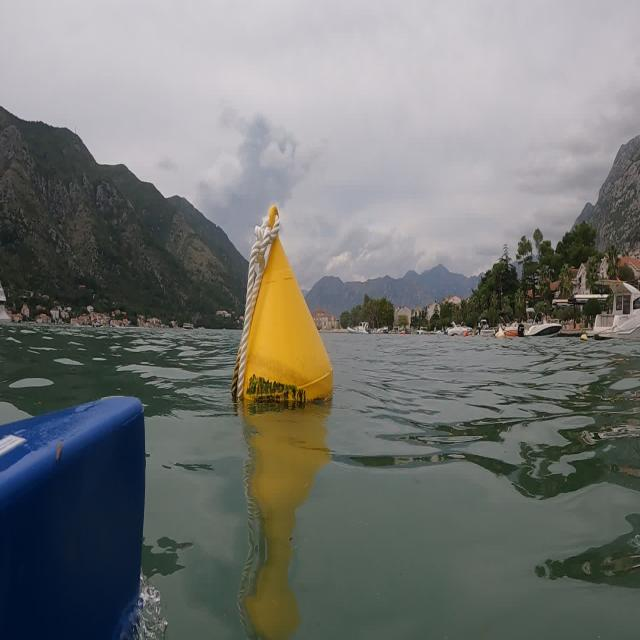boat: (590, 270, 640, 345), (502, 307, 568, 350)
buoy: (228, 202, 336, 412)
